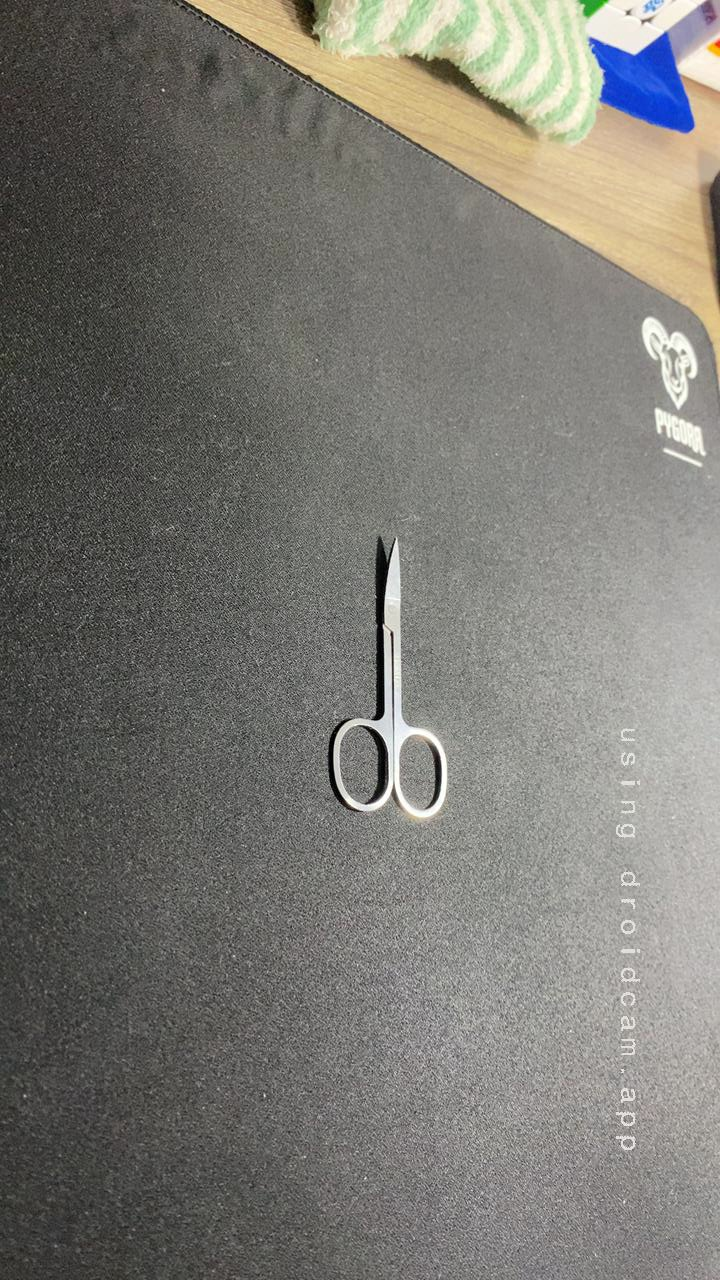scissor: (304, 525, 475, 834)
